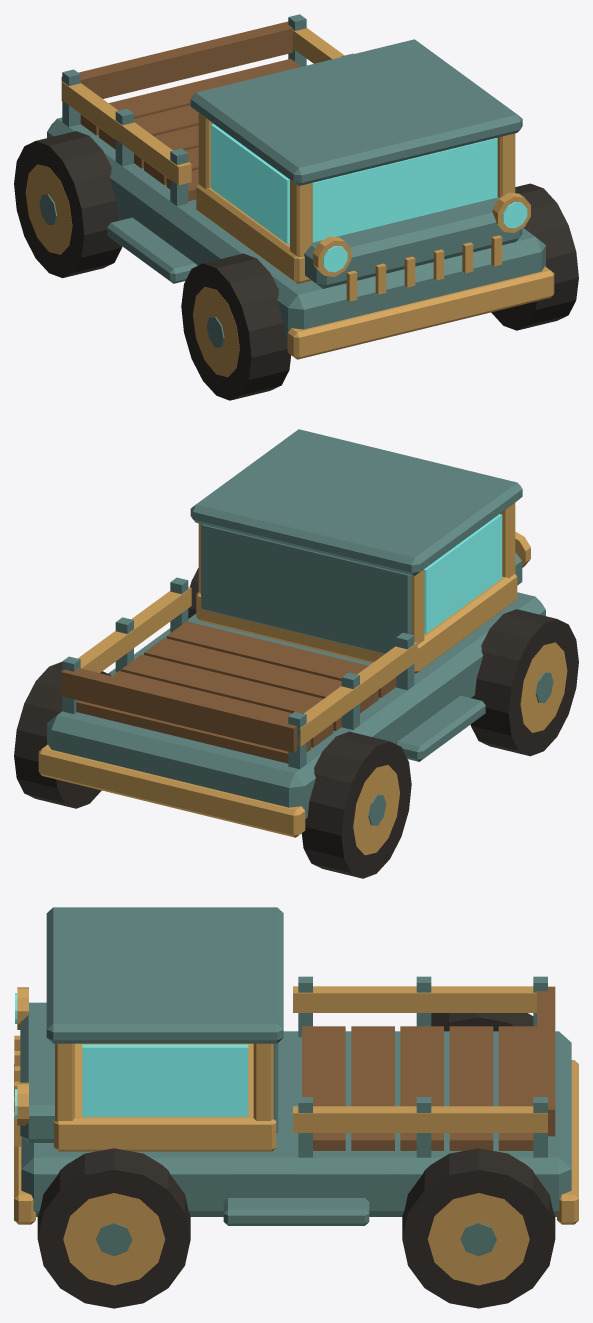
Rendered from motor-hauler.glb.
3 views of the same model, one above another, from view 1: azimuth 30°, elevation 25°; view 2: azimuth 150°, elevation 25°; view 3: azimuth 270°, elevation 25° (orthographic). The views are drawn at different scales.
Parts seen in each view (by area): view 1: MotorHauler; view 2: MotorHauler; view 3: MotorHauler.
Part boxes in pixels (x1,y1,x2,y2): MotorHauler: [14, 14, 578, 400]; MotorHauler: [14, 429, 578, 878]; MotorHauler: [14, 907, 578, 1308].
Size of the model in its own units: 2.28 by 1.55 by 3.1.
